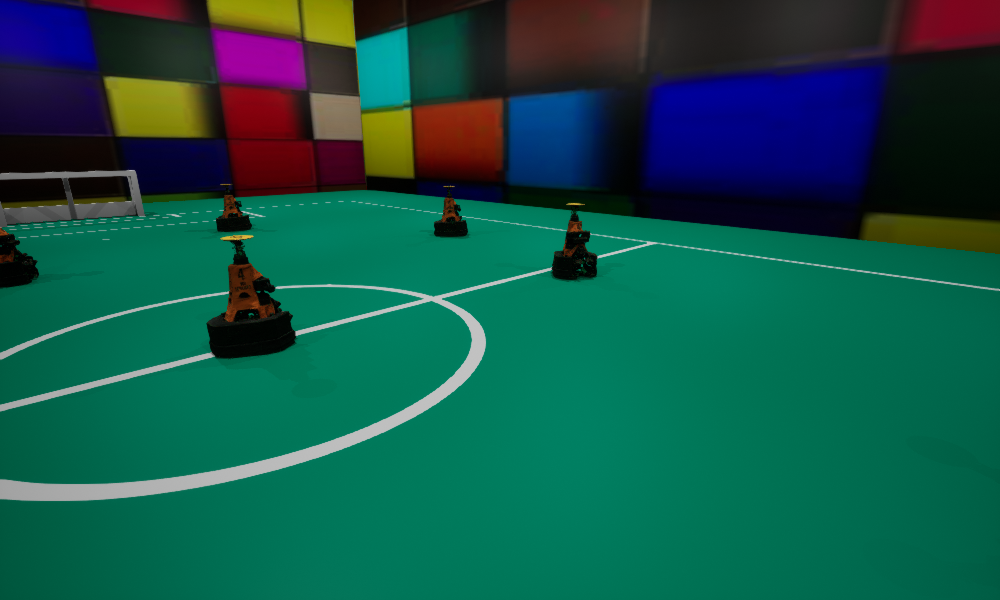0 orange robot TechUnited: (206, 235, 295, 358), (552, 203, 596, 279), (0, 228, 38, 287), (434, 186, 467, 236), (216, 184, 251, 231)
